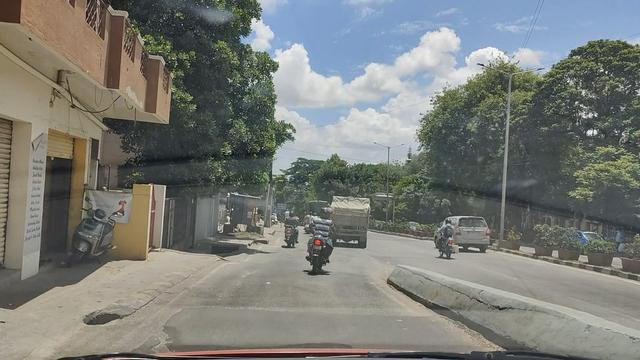HMV: (321, 189, 376, 247)
LMV: (67, 191, 133, 266)
RoadDamages: (70, 298, 137, 334)
